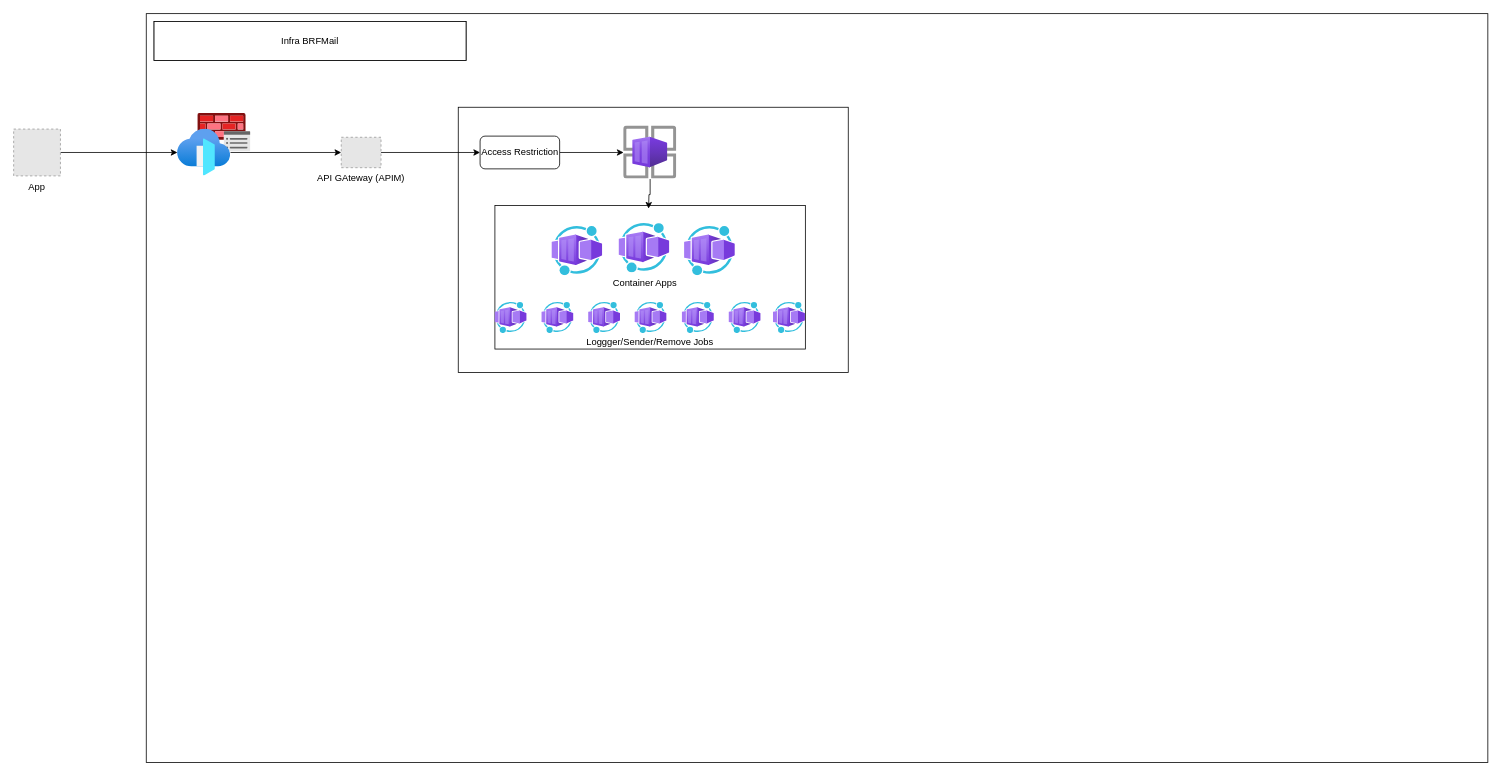
Image size: 1502x776. Some labels were removed from this diagram. Grey dashed boxes stand in for pictures. Here are the shapes that lost their labels. From the top down, the centre of each, then its label:
point (203, 152): FrontDoor Waf
point (649, 152): Container App Environment
